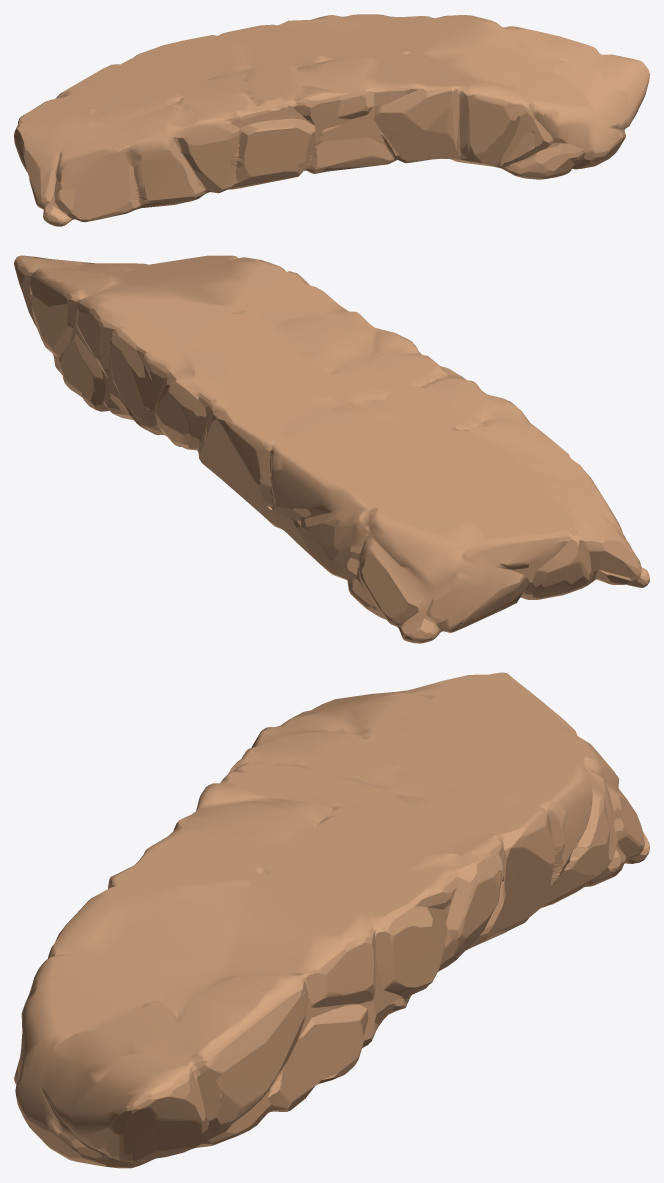
3 views of the same model, one above another, from view 1: azimuth 30°, elevation 25°; view 2: azimuth 150°, elevation 25°; view 3: azimuth 270°, elevation 25° (orthographic). The views are drawn at different scales.
Parts seen in each view (by area): view 1: Mesh_49_LOD0; view 2: Mesh_49_LOD0; view 3: Mesh_49_LOD0.
Boxes of the visible parts, box(x1,y1,x2,y2) form: Mesh_49_LOD0: box(14, 14, 649, 226); Mesh_49_LOD0: box(14, 255, 649, 643); Mesh_49_LOD0: box(14, 672, 649, 1168).
Size of what is drawn, in the model's own units: 7611 by 1528 by 4525.
